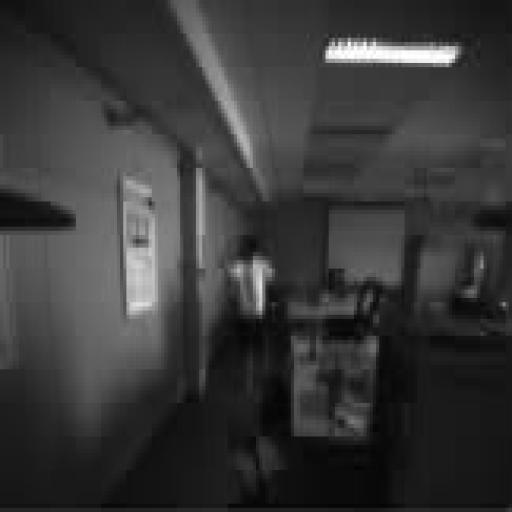human: (228, 236, 274, 394)
